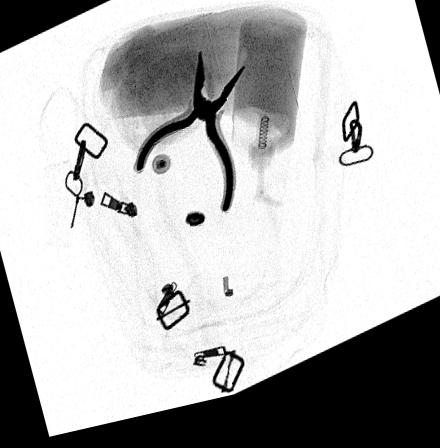Pliers: (134, 60, 246, 223)
